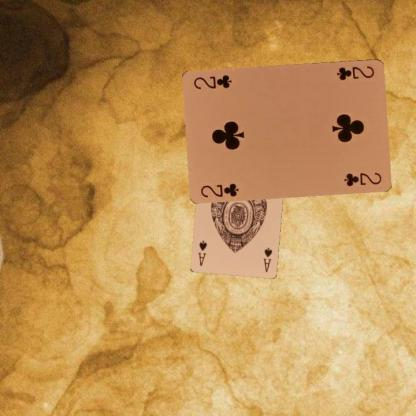2c: (198, 180, 240, 199), (334, 63, 376, 81)
As: (261, 244, 273, 273)
